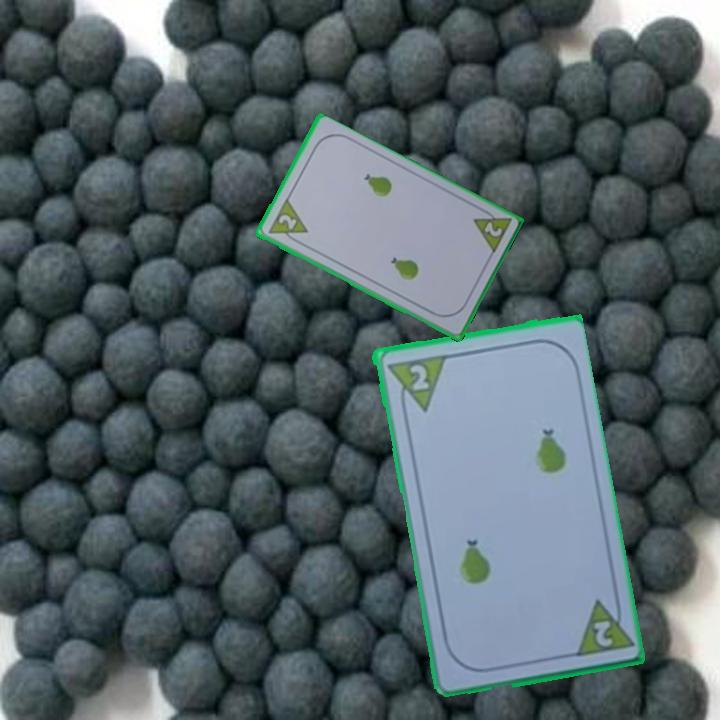2p: (569, 592, 634, 659), (468, 203, 514, 258), (405, 360, 432, 393), (274, 211, 299, 233)
